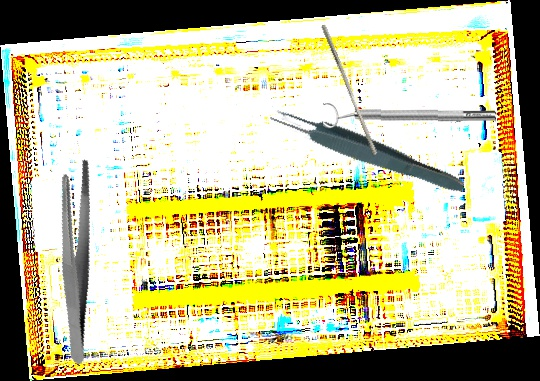Dressing Forceps: (16, 155, 135, 365)
Fixation Ring: (322, 100, 497, 132)
Pusher: (315, 24, 383, 156)
Tissue Forceps: (266, 100, 469, 200)
